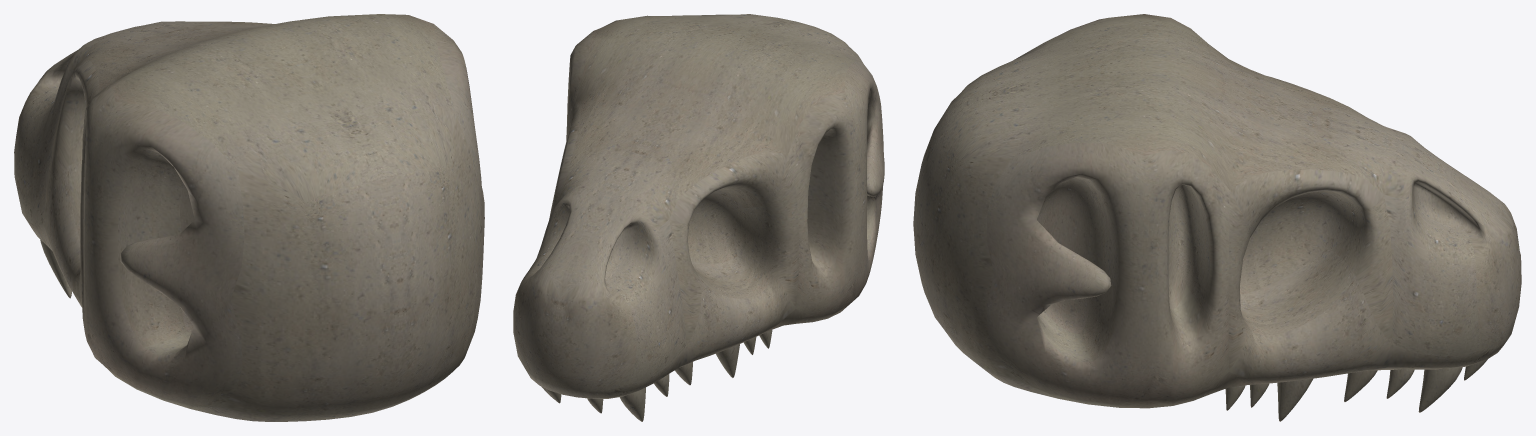
The model's file is Dinosaur_skull.glb.
The picture shows the model from 3 angles, left to right: view 1: azimuth 30°, elevation 25°; view 2: azimuth 150°, elevation 25°; view 3: azimuth 270°, elevation 25°; orthographic projection. The views are drawn at different scales.
Visible parts, largest first — view 1: Ground010_1K_Color.jpg__; view 2: Ground010_1K_Color.jpg__; view 3: Ground010_1K_Color.jpg__.
Part boxes in pixels (x1,y1,x2,y2): Ground010_1K_Color.jpg__: (14,14,484,421); Ground010_1K_Color.jpg__: (513,14,884,421); Ground010_1K_Color.jpg__: (913,14,1521,421).
Bounding box in the file's own units: 5.93 × 5.51 × 9.34.
Materials: 1 (1 with a texture image).
